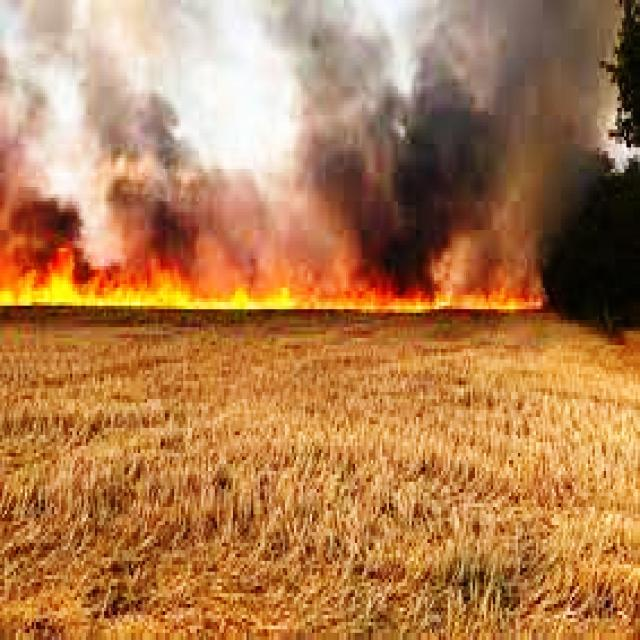api: (91, 277, 554, 314), (2, 259, 82, 306)
asap: (88, 14, 613, 270), (5, 18, 82, 247)
